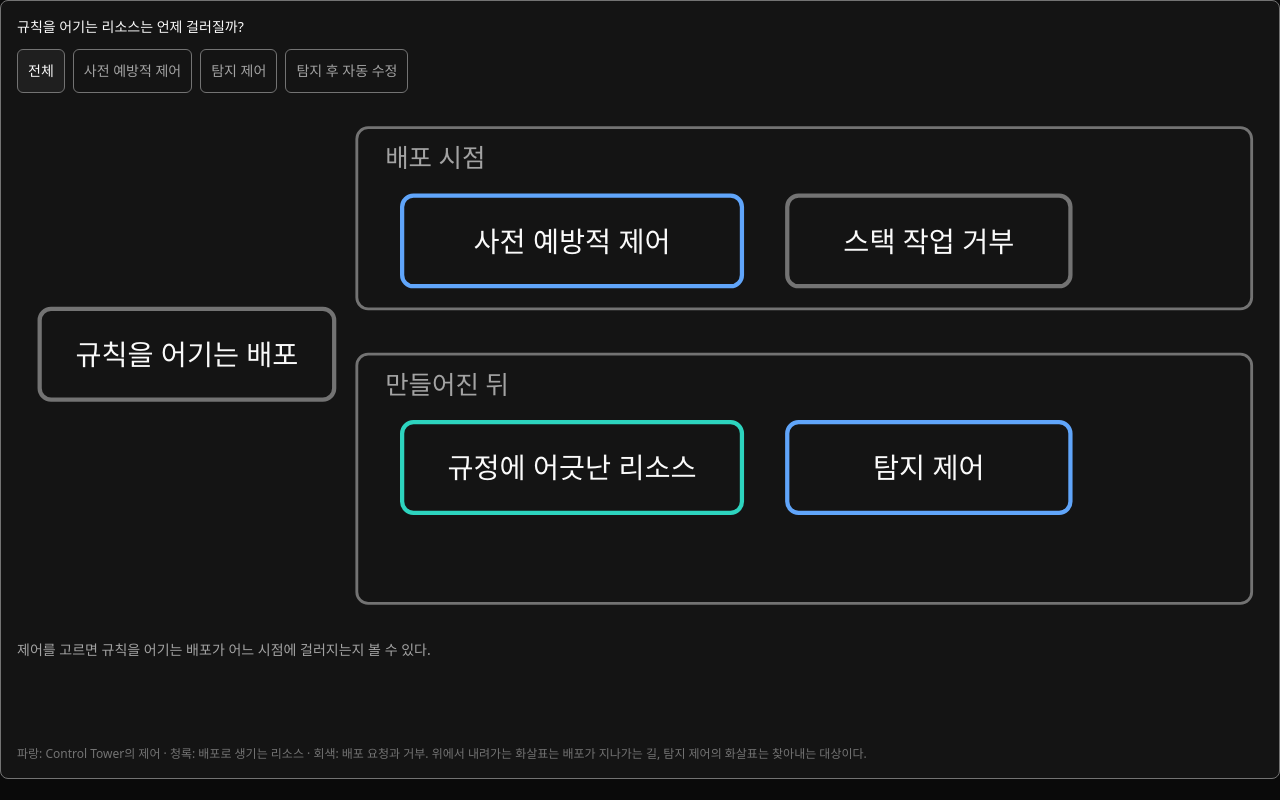
Test: ControlTimingDiagram › 가로형 (768px 이상) › 탐지 제어: 세로형과 같은 노드·경로·곁말·캡션을 보이고 곁말은 만들어진 뒤 안에서 노드·그룹 라벨과 겹치지 않는다
What coordinates should you click on to do the following:
click the button "탐지 제어"
I would click on:
 (239, 71)
Its box is [200,49,277,93].
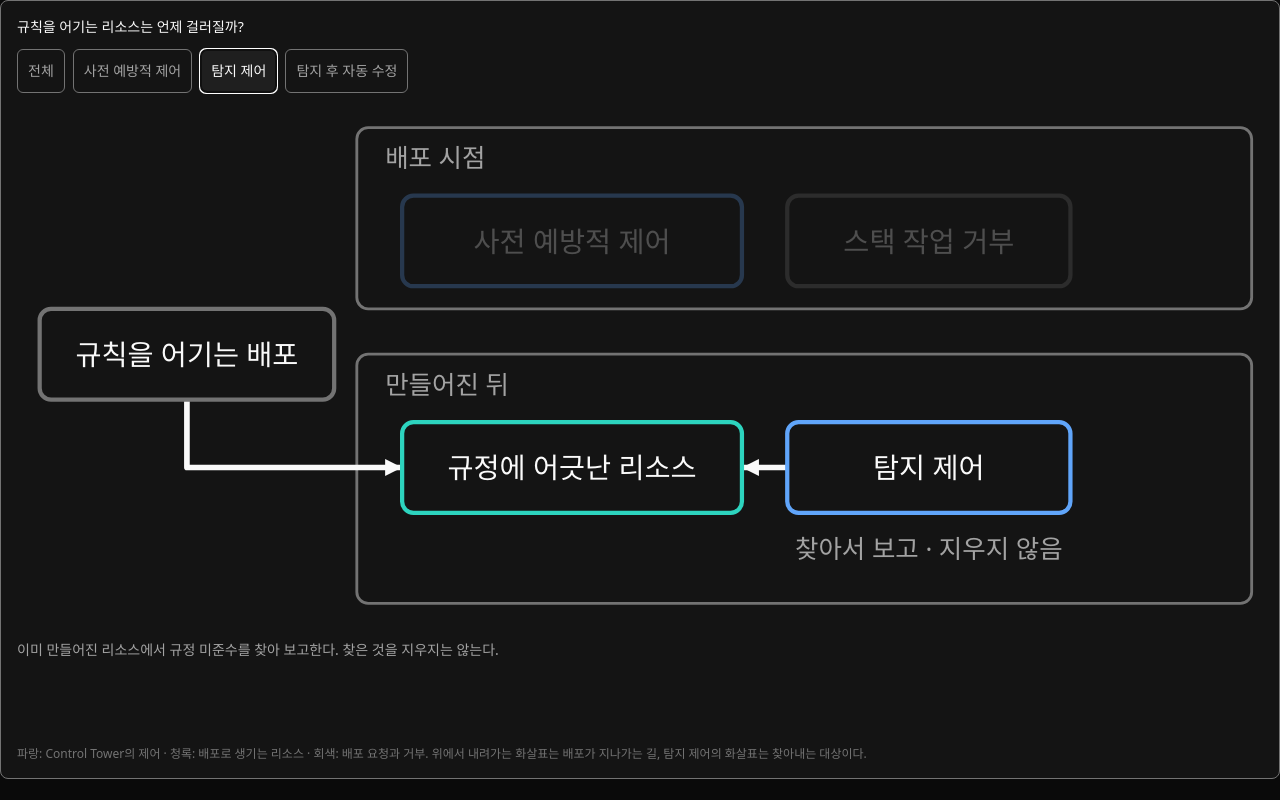
Expected: the text "이미 만들어진 리소스에서 규정 미준수를 찾아 보고한다. 찾은 것을 지우지는 않는다." is shown, [17,640,499,659]
